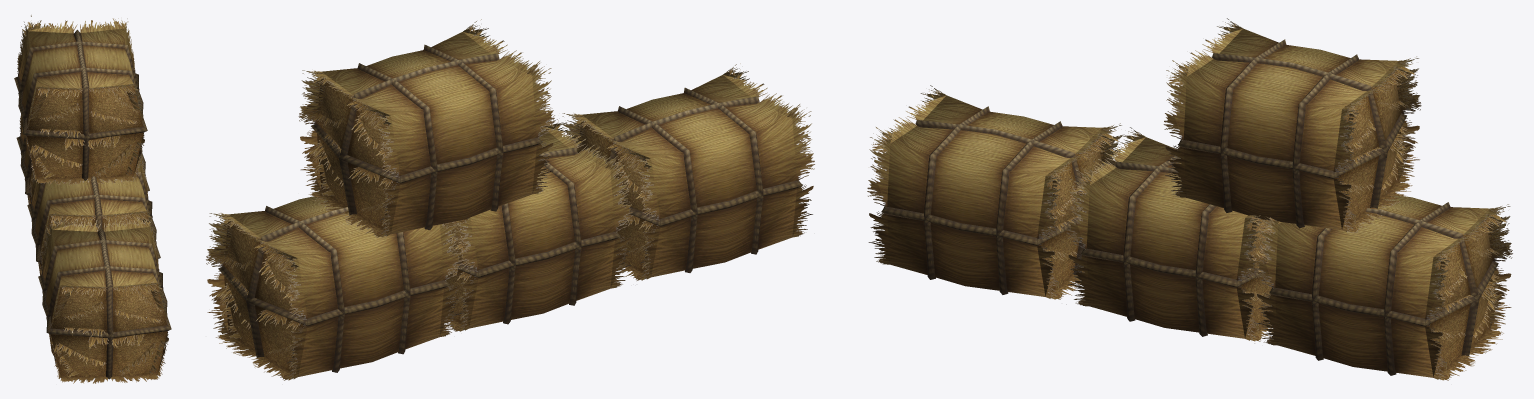
The model's file is yanshi9_zhibei_1.fbx.
3 views of the same model, side by side, from view 1: azimuth 30°, elevation 25°; view 2: azimuth 150°, elevation 25°; view 3: azimuth 270°, elevation 25° (orthographic). The views are drawn at different scales.
Visible parts, largest first — view 1: yanshi9_zhibei_1; view 2: yanshi9_zhibei_1; view 3: yanshi9_zhibei_1.
Boxes of the visible parts, x1,y1,x2,y2 form: yanshi9_zhibei_1: [14, 15, 171, 383]; yanshi9_zhibei_1: [206, 19, 814, 380]; yanshi9_zhibei_1: [867, 18, 1512, 380].
Size of the model in its own units: 467 by 313 by 725.
